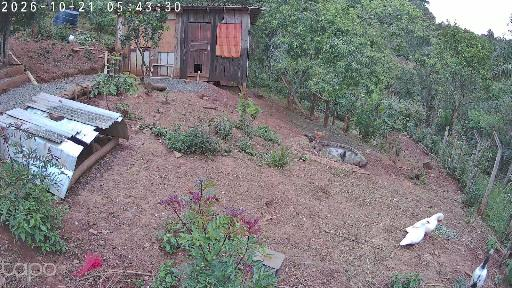frango: (468, 249, 496, 287)
galinha: (304, 133, 317, 147), (315, 130, 325, 142), (314, 113, 320, 124), (340, 150, 346, 160)
galo: (68, 35, 77, 46)
pato: (399, 220, 430, 249), (406, 213, 444, 236)
